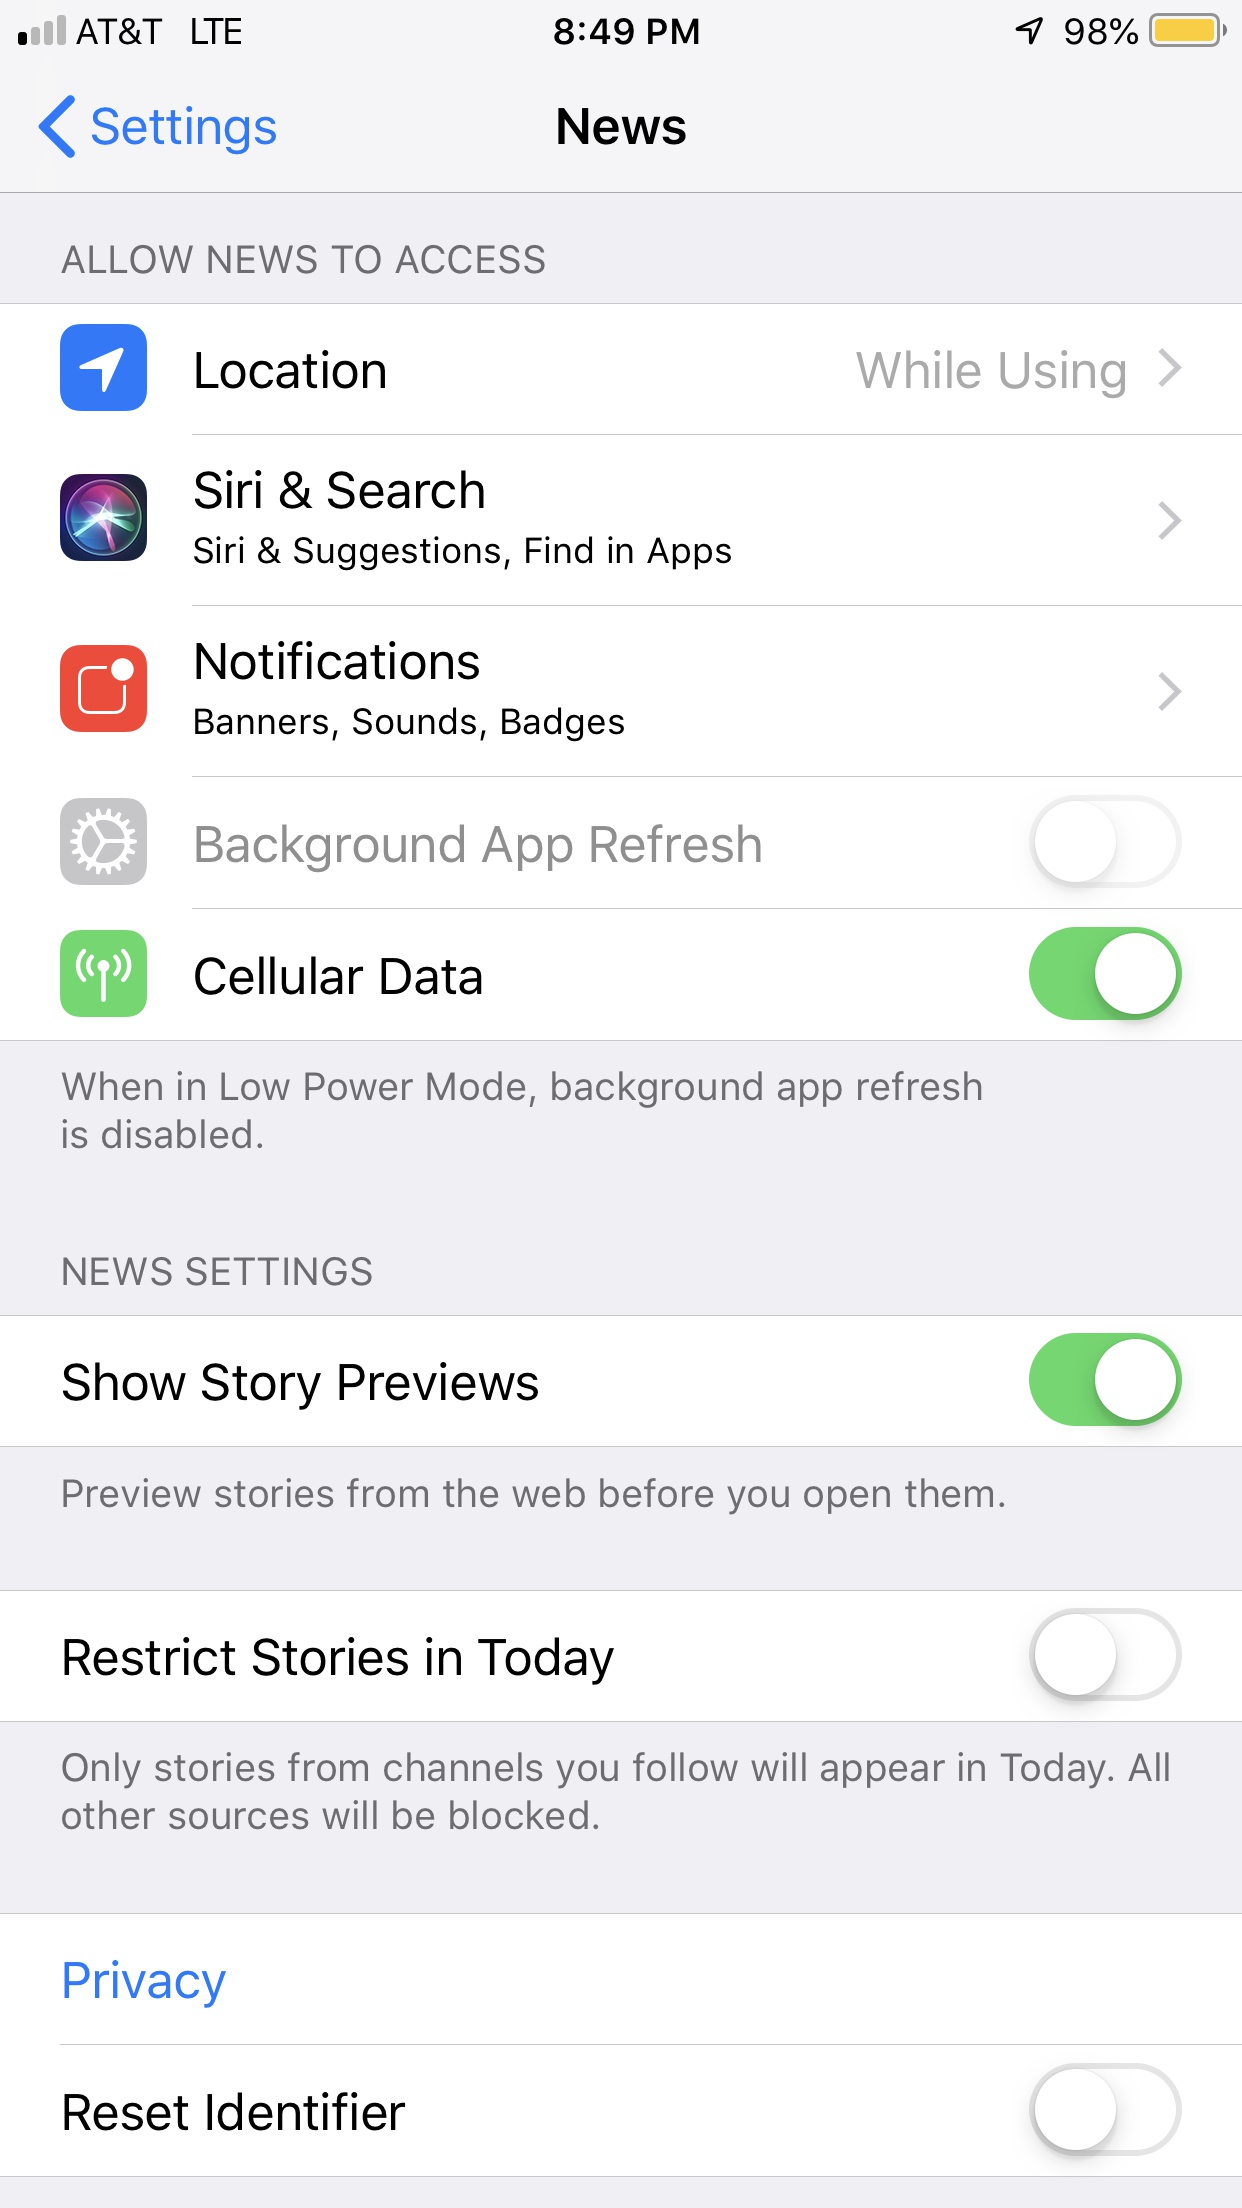Icon: (61, 325, 149, 412), (61, 798, 149, 886), (39, 94, 77, 161), (1159, 347, 1183, 390), (1159, 672, 1183, 713), (1159, 500, 1183, 541)
Image: (61, 473, 149, 563), (61, 645, 149, 732), (61, 930, 149, 1018)
Switch: (1028, 795, 1183, 890), (1028, 1331, 1183, 1427), (1028, 1607, 1183, 1701), (1028, 2062, 1183, 2156), (1030, 927, 1183, 1021)
Text: (62, 1752, 1171, 1830), (62, 1071, 983, 1149), (64, 1477, 1005, 1515), (196, 823, 761, 873), (64, 1636, 616, 1686), (64, 1362, 538, 1410), (194, 535, 732, 572), (196, 707, 625, 742), (61, 246, 546, 276), (64, 2091, 406, 2132), (855, 349, 1127, 400), (196, 470, 485, 511), (196, 955, 482, 996), (196, 641, 481, 681), (64, 1256, 375, 1287), (93, 106, 278, 156), (65, 1959, 227, 2009), (197, 349, 387, 390), (554, 102, 685, 152)
UpperTaskBar: (2, 2, 1242, 49)
